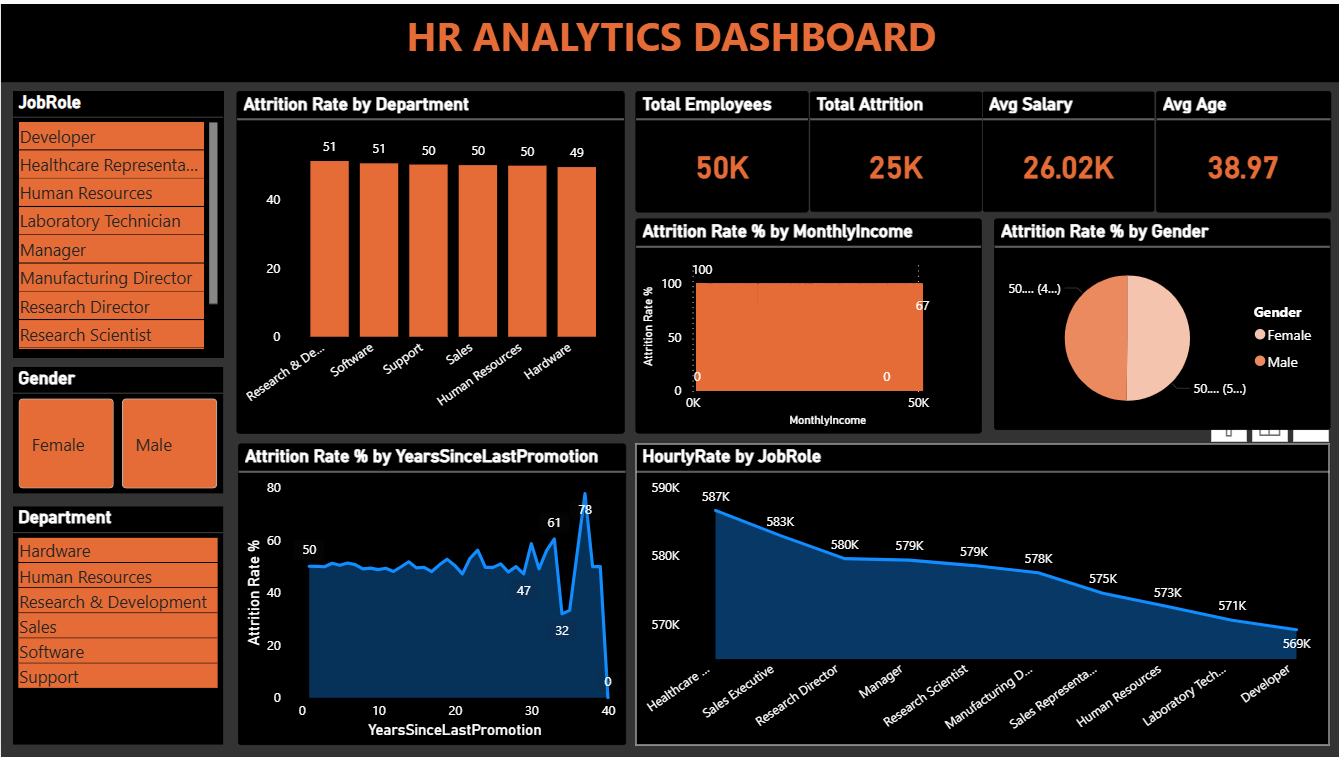

The dashboard page shown, as its layout file describes it:
{"tool":"powerbi","page":{"name":"Page 1","canvas":[1280,720],"ordinal":0},"visuals":[{"type":"textbox","box":[0,0,1280.4,74.8],"z":0},{"type":"card","title":"Total Employees","fields":{"Values":["HR_1.Total Employees"]},"box":[606,82.7,165.4,116.1],"z":1000},{"type":"card","title":"Total Attrition","fields":{"Values":["HR_1.Total Attrition"]},"box":[771.4,82.7,165.4,116.1],"z":2000},{"type":"card","title":"Avg Salary","fields":{"Values":["HR_1.Avg Salary"]},"box":[936.9,82.7,165.4,116.1],"z":3000},{"type":"card","title":"Avg Age","fields":{"Values":["HR_1.Average Age"]},"box":[1102.3,82.7,167,116.1],"z":4000},{"type":"clusteredColumnChart","title":"Attrition Rate by Department","fields":{"Y":["HR_1.Attrition Rate %"],"Category":["HR_1.Department"]},"box":[224.3,82.7,370.6,327.7],"z":5000},{"type":"areaChart","title":"HourlyRate by JobRole","fields":{"Category":["HR_1.JobRole"],"Y":["Sum(HR_1.HourlyRate)"]},"box":[606,419.9,663.3,287.9],"z":6000},{"type":"columnChart","fields":{"Y":["HR_1.Attrition Rate %"],"Category":["HR_2.MonthlyIncome"]},"box":[606,205.2,330.8,205.2],"z":7000},{"type":"pieChart","fields":{"Category":["HR_1.Gender"],"Y":["HR_1.Attrition Rate %"]},"box":[948,205.2,321.3,202],"z":8000},{"type":"areaChart","fields":{"Category":["HR_2.YearsSinceLastPromotion"],"Y":["HR_1.Attrition Rate %"]},"box":[225.9,419.9,370.6,287.9],"z":9000},{"type":"listSlicer","fields":{"Values":["HR_1.JobRole"]},"box":[11.1,82.7,200.4,254.5],"z":10000},{"type":"advancedSlicerVisual","fields":{"Values":["HR_1.Gender"]},"box":[11.1,346.8,200.4,120.9],"z":11000},{"type":"listSlicer","fields":{"Values":["HR_1.Department"]},"box":[11.1,480.4,200.4,227.5],"z":12000}]}

Visuals, with their boxes in screenshot pixels (x1, y1, x2, y2), scaled from the page's 1280x720 canvas onto the 1339x757 screenshot:
textbox: <box>0,0,1338,79</box>
"Total Employees" card: <box>634,87,807,209</box>
"Total Attrition" card: <box>807,87,980,209</box>
"Avg Salary" card: <box>980,87,1153,209</box>
"Avg Age" card: <box>1153,87,1328,209</box>
"Attrition Rate by Department" clusteredColumnChart: <box>235,87,622,431</box>
"HourlyRate by JobRole" areaChart: <box>634,441,1328,744</box>
columnChart - HR_1.Attrition Rate % x HR_2.MonthlyIncome: <box>634,216,980,431</box>
pieChart - HR_1.Gender x HR_1.Attrition Rate %: <box>992,216,1328,428</box>
areaChart - HR_2.YearsSinceLastPromotion x HR_1.Attrition Rate %: <box>236,441,624,744</box>
listSlicer - HR_1.JobRole: <box>12,87,221,355</box>
advancedSlicerVisual - HR_1.Gender: <box>12,365,221,492</box>
listSlicer - HR_1.Department: <box>12,505,221,744</box>
